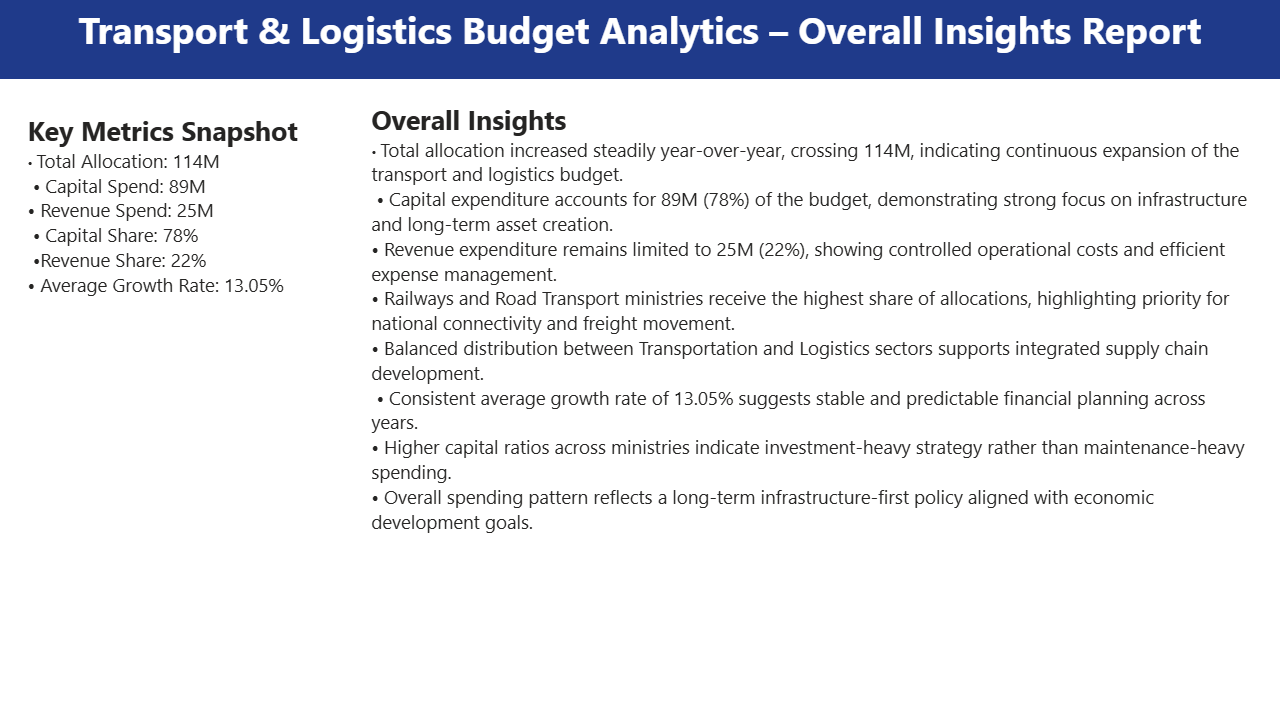

The dashboard page shown, as its layout file describes it:
{"tool":"powerbi","page":{"name":"Page 3","canvas":[1280,720],"ordinal":2},"visuals":[{"type":"textbox","box":[23.1,109.2,316.9,240],"z":0},{"type":"textbox","box":[366.2,96.9,892.3,535.4],"z":1000},{"type":"textbox","box":[0,0,1280,80],"z":2000}]}

Visuals, with their boxes in screenshot pixels (x1, y1, x2, y2), scaled from the page's 1280x720 canvas onto the 1280x718 screenshot:
textbox: l=23, t=109, r=340, b=348
textbox: l=366, t=97, r=1258, b=631
textbox: l=0, t=0, r=1279, b=80
